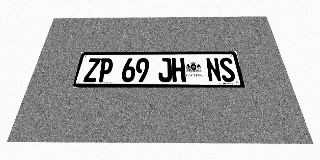6: (121, 58, 136, 82)
9: (135, 58, 149, 82)
H: (172, 58, 186, 82)
J: (158, 58, 172, 82)
N: (205, 58, 222, 82)
P: (97, 58, 114, 82)
S: (218, 58, 236, 82)
Z: (83, 58, 101, 82)
